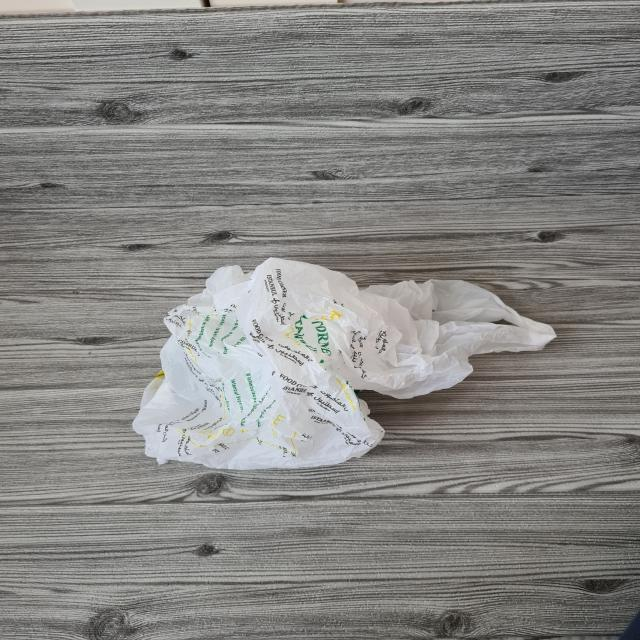Plastic_Bag: (113, 238, 578, 492)
